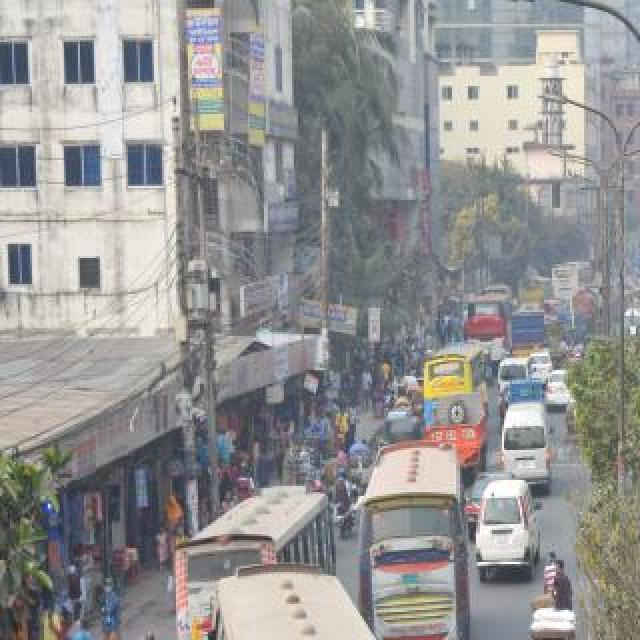bus: (172, 486, 332, 640), (362, 448, 472, 640), (208, 566, 428, 640), (422, 340, 486, 412), (467, 297, 511, 359), (553, 260, 595, 296), (517, 275, 551, 305), (634, 310, 640, 402)
motorbike: (333, 468, 359, 540), (126, 638, 172, 640)
truck: (426, 391, 488, 471), (567, 290, 599, 322)
van: (481, 478, 543, 584), (500, 398, 556, 488), (512, 309, 546, 355), (497, 355, 531, 391), (560, 309, 588, 345), (550, 324, 574, 360)
